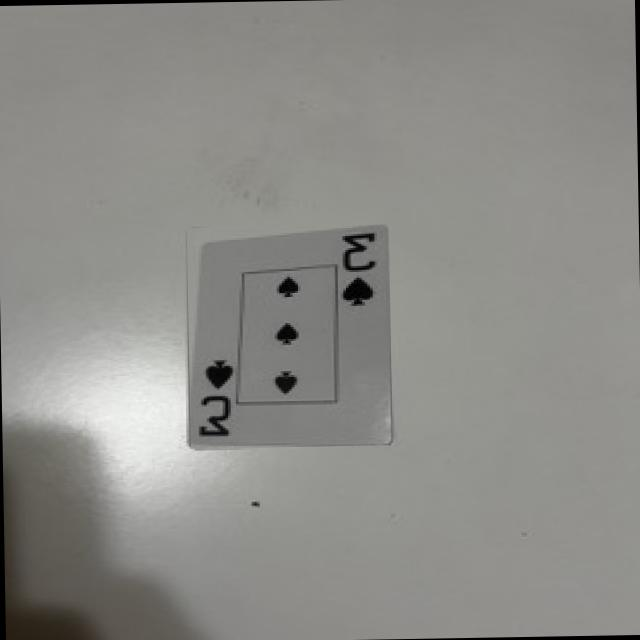3 of spades: (190, 224, 392, 445)
